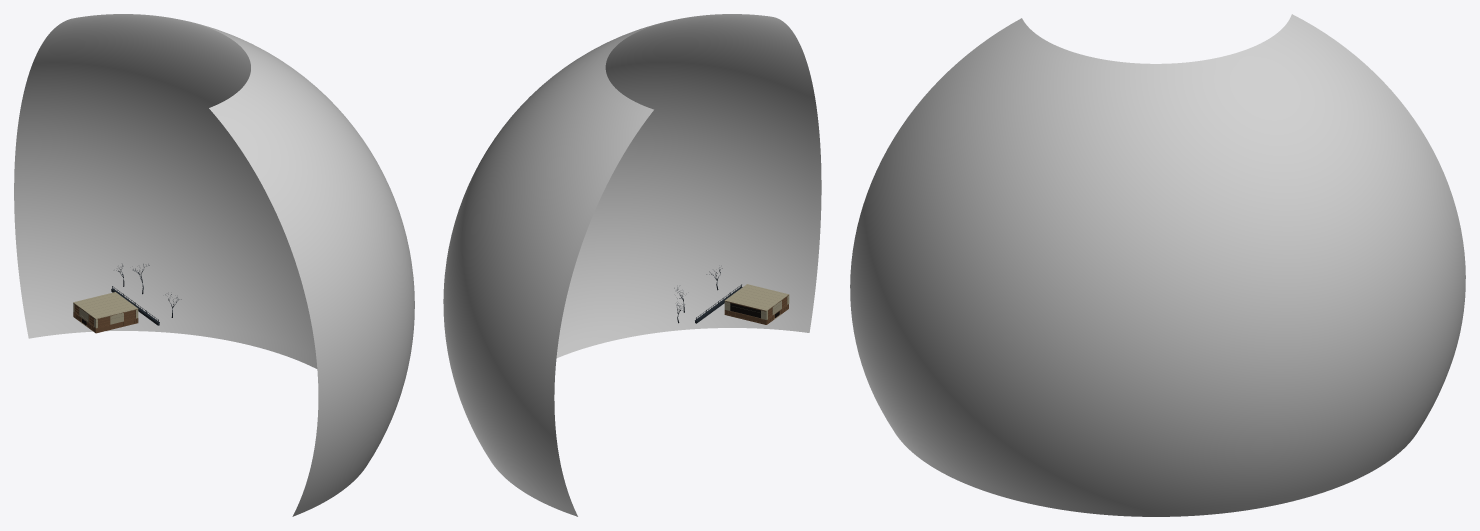
Rendered from Home.fbx.
3 renders of one model, left to right at view 1: azimuth 30°, elevation 25°; view 2: azimuth 150°, elevation 25°; view 3: azimuth 270°, elevation 25°, orthographic. The views are drawn at different scales.
Parts seen in each view (by area): view 1: Home_Night_unlit_twinkle12, Home_Mineral_Atlas, Home_Walnut; view 2: Home_Night_unlit_twinkle12, Home_Mineral_Atlas, Home_Walnut; view 3: Home_Night_unlit_twinkle12.
Boxes of the visible parts, x1,y1,x2,y2 form: Home_Night_unlit_twinkle12: (14, 14, 414, 516); Home_Mineral_Atlas: (73, 292, 138, 328); Home_Walnut: (73, 303, 138, 333); Home_Night_unlit_twinkle12: (443, 14, 821, 516); Home_Mineral_Atlas: (724, 284, 789, 319); Home_Walnut: (724, 295, 788, 324); Home_Night_unlit_twinkle12: (850, 14, 1465, 516).
Bounding box in the file's own units: 58.46 × 69.94 × 98.42.
